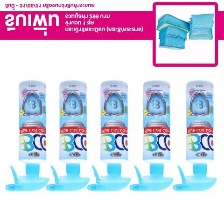cleaning_solution: (83, 77, 132, 194), (43, 78, 92, 195), (171, 77, 218, 194), (3, 78, 50, 195), (127, 78, 173, 193)
